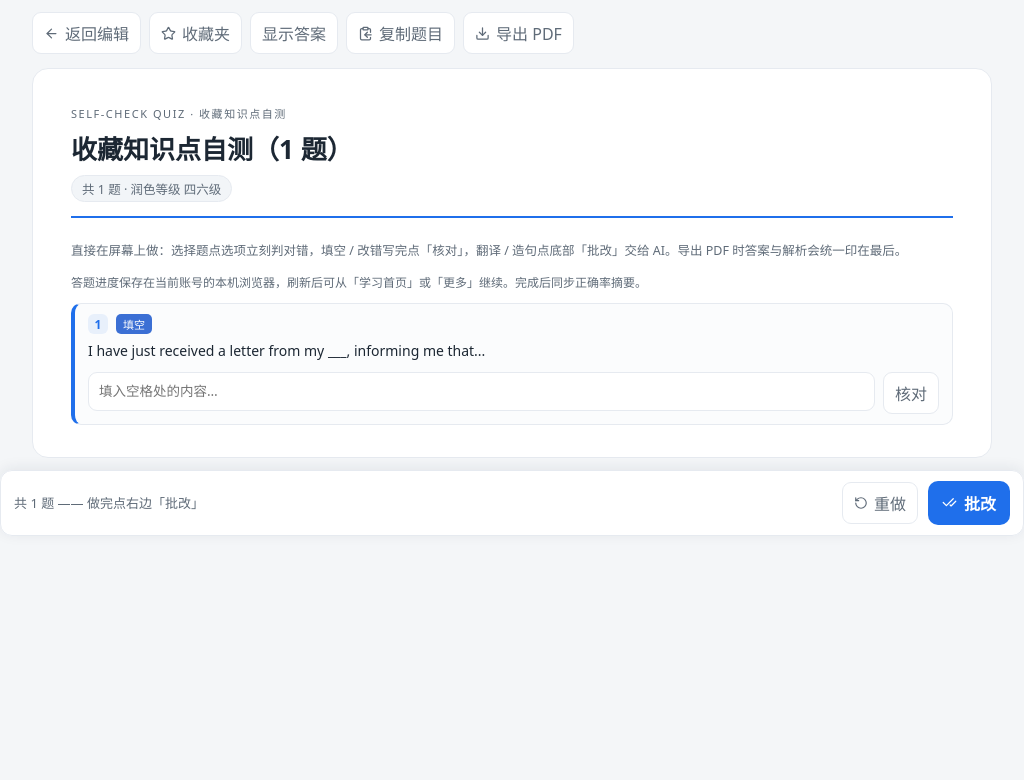
填空 / 改错：写完点「核对」 › 填空写错 → 判定里给出标准答案与解析
Step 1. Type "mother school" into the field with placeholder "填入空格处的内容…" → (482, 391), box [88,372,875,411]
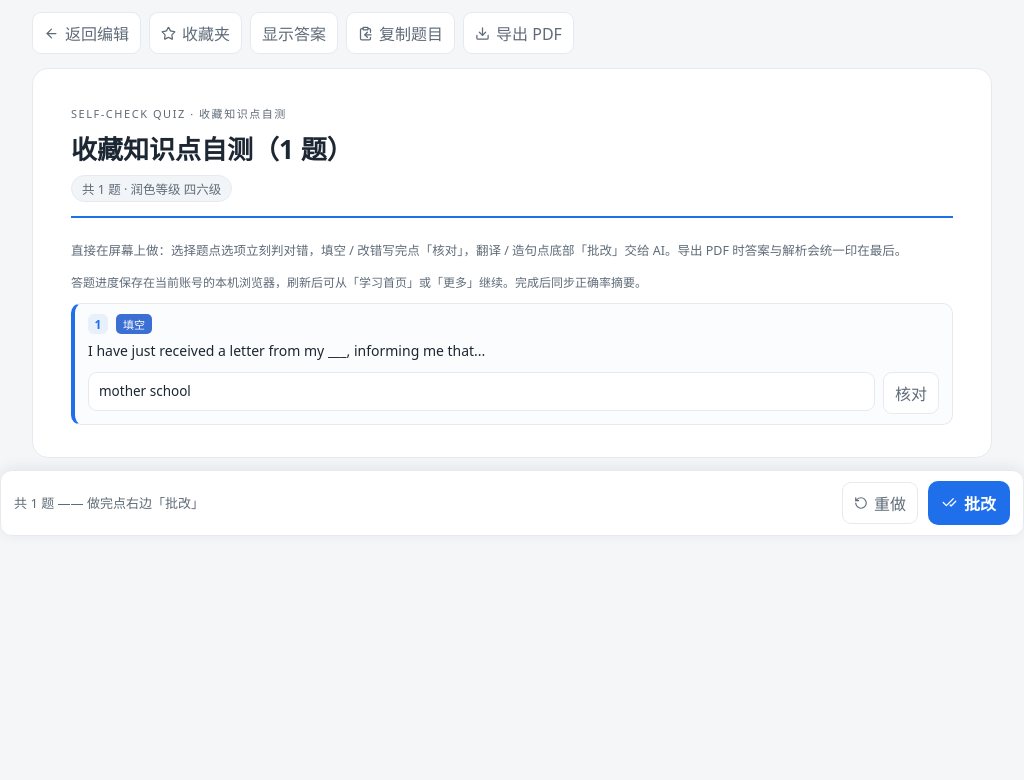
Step 2. Click the button "核对" → (911, 392), box [883,372,939,414]
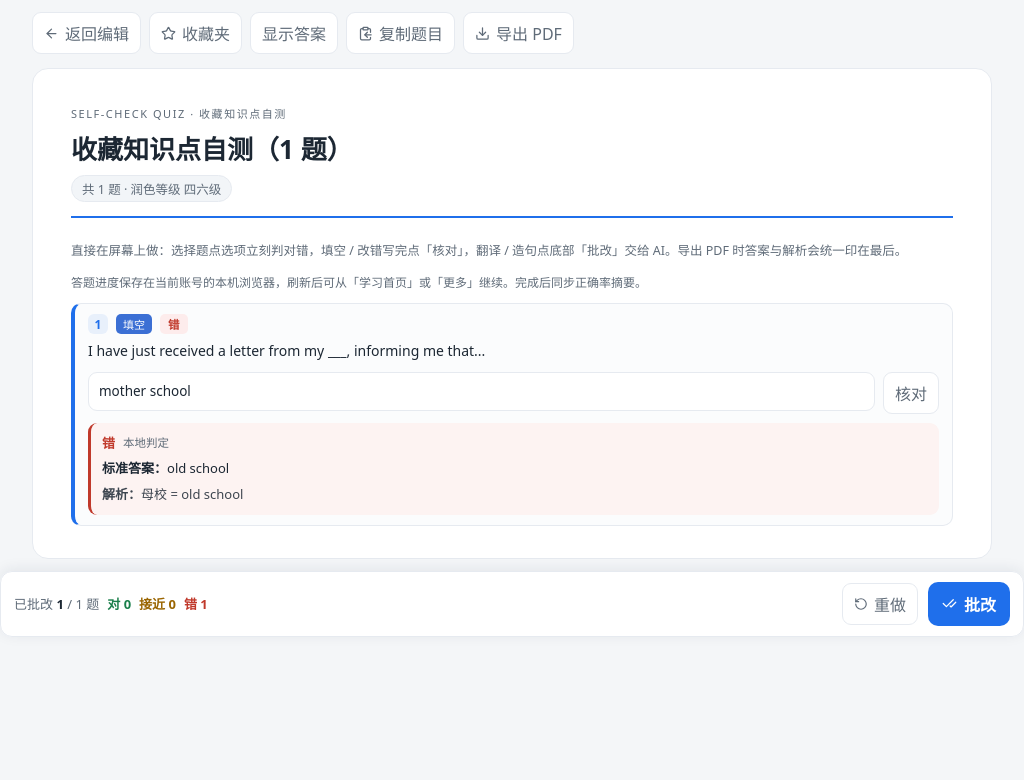
Result: the element with class "wrong" that starts with "本地判定" is shown at [88,422,939,515]
Result: the element with class "wrong" shows "old school" at [167,459,229,477]
Result: the element with class "wrong" shows "母校" at [141,485,243,503]
